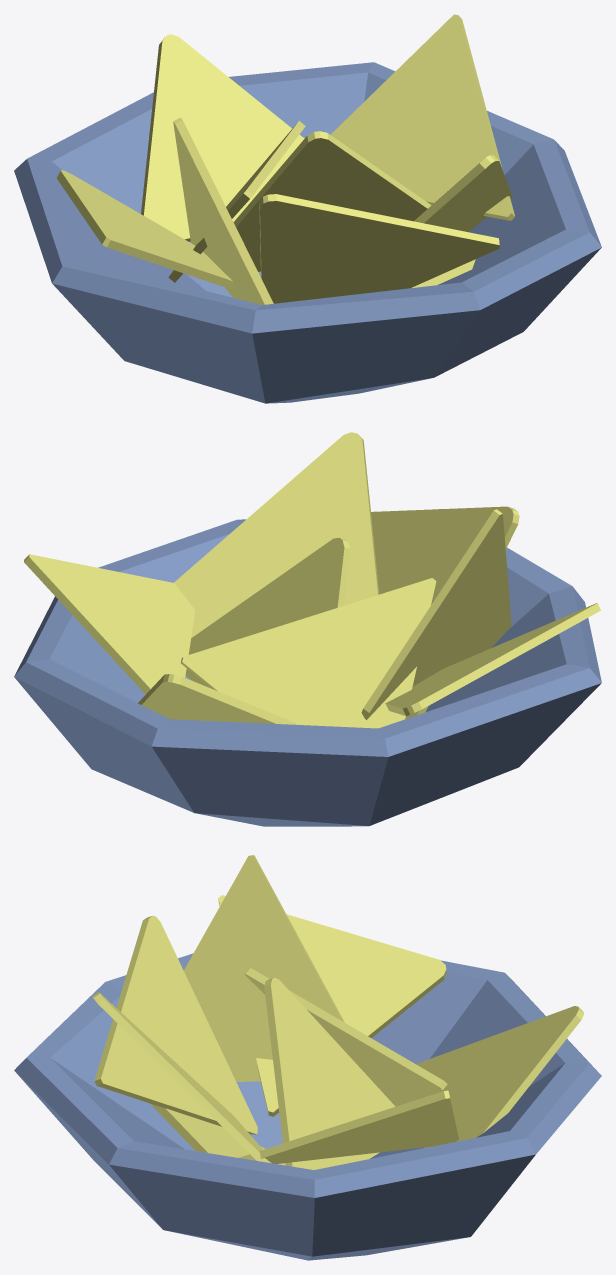
File: Nacho_Bowl.fbx
3 renders of one model, top to bottom at view 1: azimuth 30°, elevation 25°; view 2: azimuth 150°, elevation 25°; view 3: azimuth 270°, elevation 25°, orthographic. The views are drawn at different scales.
Visible parts, largest first — view 1: Cylinder.003; view 2: Cylinder.003; view 3: Cylinder.003.
Boxes of the visible parts, bbox=[...] form: Cylinder.003: bbox=[14, 14, 601, 403]; Cylinder.003: bbox=[14, 432, 601, 826]; Cylinder.003: bbox=[14, 855, 601, 1260].
Size of the model in its own units: 131 by 73.14 by 131.
